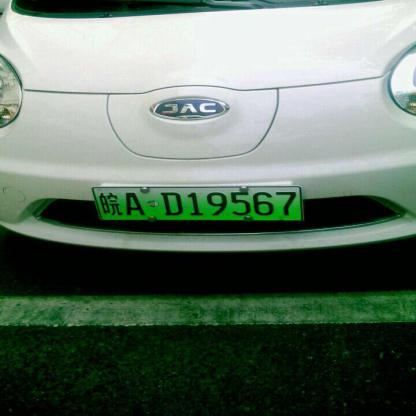lp: (90, 186, 302, 220)
